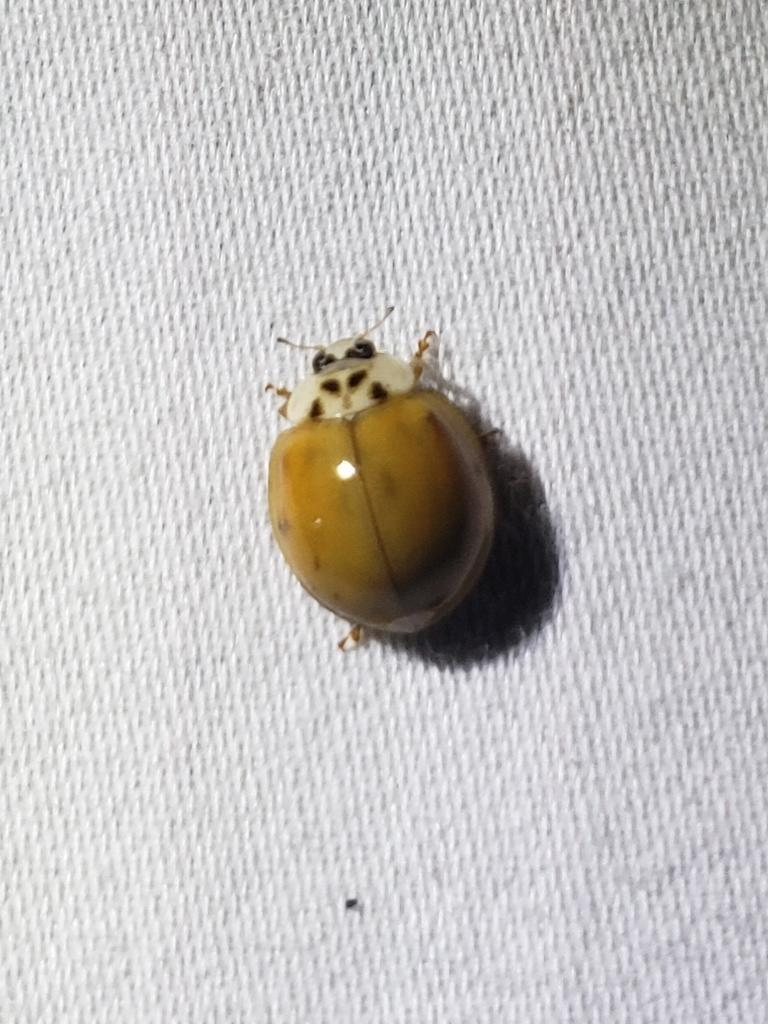ladybug: (266, 306, 534, 656)
